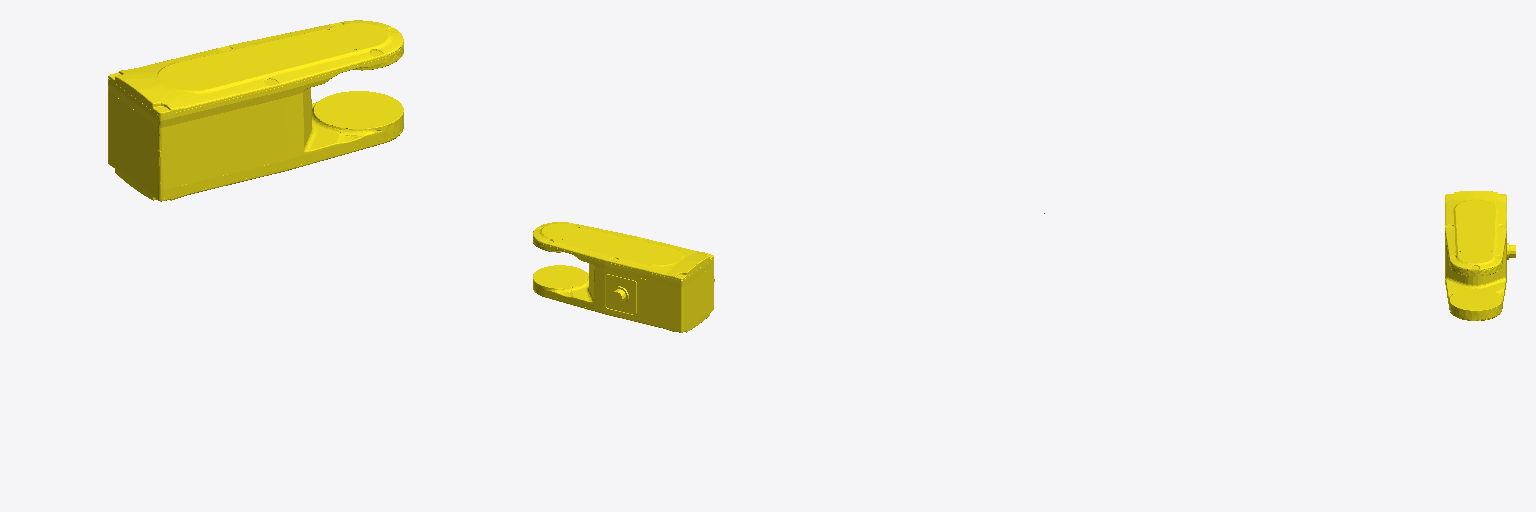
robot.urdf — fanuc_ir_mate_200id_v2:
<?xml version="1.0" encoding="utf-8"?>
<!-- This URDF was automatically created by SolidWorks to URDF Exporter! Originally created by [author] ([email redacted]) 
     Commit Version: 1.5.1-0-g916b5db  Build Version: 1.5.7152.31018
     For more information, please see http://wiki.ros.org/sw_urdf_exporter -->
<robot
  name="fanuc_ir_mate_200id_v2">
  <link
    name="base">
    <inertial>
      <origin
        xyz="-0.0068268 -0.00032168 0.080423"
        rpy="0 0 0" />
      <mass
        value="4.8533" />
      <inertia
        ixx="0.021987"
        ixy="-0.0001185"
        ixz="0.00014303"
        iyy="0.023829"
        iyz="-3.0601E-05"
        izz="0.022801" />
    </inertial>
    <visual>
      <origin
        xyz="0 0 0"
        rpy="0 0 0" />
      <geometry>
        <mesh
          filename="package://fanuc_ir_mate_200id_v2/meshes/base.STL" />
      </geometry>
      <material
        name="">
        <color
          rgba="0.79216 0.81961 0.93333 1" />
      </material>
    </visual>
    <collision>
      <origin
        xyz="0 0 0"
        rpy="0 0 0" />
      <geometry>
        <mesh
          filename="package://fanuc_ir_mate_200id_v2/meshes/base.STL" />
      </geometry>
    </collision>
  </link>
  <link
    name="Link 1">
    <inertial>
      <origin
        xyz="0.0395165862325428 -0.000714780375481283 0.326948773485214"
        rpy="0 0 0" />
      <mass
        value="14.0629656801171" />
      <inertia
        ixx="0.858841623077969"
        ixy="-0.00061674822246848"
        ixz="-0.132760805503396"
        iyy="0.913159722757177"
        iyz="-0.00110909207111619"
        izz="0.13314943975627" />
    </inertial>
    <visual>
      <origin
        xyz="0 0 0"
        rpy="0 0 0" />
      <geometry>
        <mesh
          filename="package://fanuc_ir_mate_200id_v2/meshes/Link 1.STL" />
      </geometry>
      <material
        name="">
        <color
          rgba="0.792156862745098 0.819607843137255 0.933333333333333 1" />
      </material>
    </visual>
    <collision>
      <origin
        xyz="0 0 0"
        rpy="0 0 0" />
      <geometry>
        <mesh
          filename="package://fanuc_ir_mate_200id_v2/meshes/Link 1.STL" />
      </geometry>
    </collision>
  </link>
  <joint
    name="joint 1"
    type="revolute">
    <origin
      xyz="0 0 0.042741"
      rpy="0 0 0" />
    <parent
      link="base" />
    <child
      link="Link 1" />
    <axis
      xyz="0 0 1" />
    <limit
      lower="-3.14"
      upper="3.14"
      effort="15"
      velocity="6" />
  </joint>
  <link
    name="Link 2">
    <inertial>
      <origin
        xyz="-0.007993 -0.0018012 0.12126"
        rpy="0 0 0" />
      <mass
        value="6.3616" />
      <inertia
        ixx="0.10665"
        ixy="8.068E-05"
        ixz="0.0014511"
        iyy="0.087068"
        iyz="-0.00055746"
        izz="0.031702" />
    </inertial>
    <visual>
      <origin
        xyz="0 0 0"
        rpy="0 0 0" />
      <geometry>
        <mesh
          filename="package://fanuc_ir_mate_200id_v2/meshes/Link 2.STL" />
      </geometry>
      <material
        name="">
        <color
          rgba="0.79216 0.81961 0.93333 1" />
      </material>
    </visual>
    <collision>
      <origin
        xyz="0 0 0"
        rpy="0 0 0" />
      <geometry>
        <mesh
          filename="package://fanuc_ir_mate_200id_v2/meshes/Link 2.STL" />
      </geometry>
    </collision>
  </link>
  <joint
    name="Joint 2"
    type="revolute">
    <origin
      xyz="0.05 0 0.28726"
      rpy="0 0 0" />
    <parent
      link="Link 1" />
    <child
      link="Link 2" />
    <axis
      xyz="0 1 0" />
    <limit
      lower="-1.77"
      upper="2.5"
      effort="20"
      velocity="8" />
  </joint>
  <link
    name="Link 3">
    <inertial>
      <origin
        xyz="0.0082366584893896 0.000680320793238054 0.017645839129693"
        rpy="0 0 0" />
      <mass
        value="2.39426298307034" />
      <inertia
        ixx="0.00633470589018608"
        ixy="-4.95237019397927E-05"
        ixz="-0.000761330144977924"
        iyy="0.00732797870019393"
        iyz="-6.64889222936894E-05"
        izz="0.00726038168046429" />
    </inertial>
    <visual>
      <origin
        xyz="0 0 0"
        rpy="0 0 0" />
      <geometry>
        <mesh
          filename="package://fanuc_ir_mate_200id_v2/meshes/Link 3.STL" />
      </geometry>
      <material
        name="">
        <color
          rgba="0.792156862745098 0.819607843137255 0.933333333333333 1" />
      </material>
    </visual>
    <collision>
      <origin
        xyz="0 0 0"
        rpy="0 0 0" />
      <geometry>
        <mesh
          filename="package://fanuc_ir_mate_200id_v2/meshes/Link 3.STL" />
      </geometry>
    </collision>
  </link>
  <joint
    name="Joint 3"
    type="revolute">
    <origin
      xyz="0 0 0.33"
      rpy="0 0 0" />
    <parent
      link="Link 2" />
    <child
      link="Link 3" />
    <axis
      xyz="0 1 0" />
    <limit
      lower="-3.5296"
      upper="1.27"
      effort="15"
      velocity="9.7" />
  </joint>
  <link
    name="Link 4">
    <inertial>
      <origin
        xyz="0.1089 0.0089142 0.05615"
        rpy="0 0 0" />
      <mass
        value="0.00082621" />
      <inertia
        ixx="2.6567E-08"
        ixy="-1.0653E-19"
        ixz="-2.9299E-25"
        iyy="2.7105E-08"
        iyz="2.3689E-24"
        izz="4.1244E-08" />
    </inertial>
    <visual>
      <origin
        xyz="0 0 0"
        rpy="0 0 0" />
      <geometry>
        <mesh
          filename="package://fanuc_ir_mate_200id_v2/meshes/Link 4.STL" />
      </geometry>
      <material
        name="">
        <color
          rgba="1 0.93333 0.13333 1" />
      </material>
    </visual>
    <collision>
      <origin
        xyz="0 0 0"
        rpy="0 0 0" />
      <geometry>
        <mesh
          filename="package://fanuc_ir_mate_200id_v2/meshes/Link 4.STL" />
      </geometry>
    </collision>
  </link>
  <joint
    name="Joint 4"
    type="revolute">
    <origin
      xyz="0.0880013108830273 0 0.0350266000000001"
      rpy="0 0 0" />
    <parent
      link="Link 3" />
    <child
      link="Link 4" />
    <axis
      xyz="1 0 0" />
    <limit
      lower="-3.3"
      upper="3.3"
      effort="8.86"
      velocity="9.77" />
  </joint>
  <link
    name="Link 5">
    <inertial>
      <origin
        xyz="0.017472 0.0029843 -6.4134E-05"
        rpy="0 0 0" />
      <mass
        value="0.44624" />
      <inertia
        ixx="0.00029866"
        ixy="2.7659E-05"
        ixz="4.1796E-08"
        iyy="0.0005998"
        iyz="1.4464E-09"
        izz="0.0005763" />
    </inertial>
    <visual>
      <origin
        xyz="0 0 0"
        rpy="0 0 0" />
      <geometry>
        <mesh
          filename="package://fanuc_ir_mate_200id_v2/meshes/Link 5.STL" />
      </geometry>
      <material
        name="">
        <color
          rgba="0.79216 0.81961 0.93333 1" />
      </material>
    </visual>
    <collision>
      <origin
        xyz="0 0 0"
        rpy="0 0 0" />
      <geometry>
        <mesh
          filename="package://fanuc_ir_mate_200id_v2/meshes/Link 5.STL" />
      </geometry>
    </collision>
  </link>
  <joint
    name="Joint 5"
    type="revolute">
    <origin
      xyz="0.245398689130573 0 0"
      rpy="0 0 0" />
    <parent
      link="Link 4" />
    <child
      link="Link 5" />
    <axis
      xyz="0 1 0" />
    <limit
      lower="-2.1817"
      upper="2.1817"
      effort="8.86"
      velocity="9.77" />
  </joint>
  <link
    name="link 6">
    <inertial>
      <origin
        xyz="4.9958E-09 -2.493E-08 0.0024231"
        rpy="0 0 0" />
      <mass
        value="0.0067922" />
      <inertia
        ixx="3.6282E-06"
        ixy="3.7711E-10"
        ixz="-5.7457E-14"
        iyy="3.6291E-06"
        iyz="2.4848E-13"
        izz="7.177E-06" />
    </inertial>
    <visual>
      <origin
        xyz="0 0 0"
        rpy="0 0 0" />
      <geometry>
        <mesh
          filename="package://fanuc_ir_mate_200id_v2/meshes/link 6.STL" />
      </geometry>
      <material
        name="">
        <color
          rgba="0.79216 0.81961 0.93333 1" />
      </material>
    </visual>
    <collision>
      <origin
        xyz="0 0 0"
        rpy="0 0 0" />
      <geometry>
        <mesh
          filename="package://fanuc_ir_mate_200id_v2/meshes/link 6.STL" />
      </geometry>
    </collision>
  </link>
  <joint
    name="Joint 6"
    type="revolute">
    <origin
      xyz="0.0755 0 0"
      rpy="3.1416 1.5708 0" />
    <parent
      link="Link 5" />
    <child
      link="link 6" />
    <axis
      xyz="0 0 -1" />
    <limit
      lower="-6.28"
      upper="6.28"
      effort="4.9"
      velocity="15.7" />
    <calibration falling="0" rising="0"/>
    <dynamics damping="0" friction="0"/>
  </joint>
  <link name="tool0"/>
    <joint name="joint_6-tool0" type="fixed">
    <parent link="link 6"/>
    <child link="tool0"/>
    <origin xyz="0 0 0" rpy="0 0 0"/>
  </joint>


</robot>

--- What the picture shows (computed from the rendered views, not written in the file) ---
Views: 3 orthographic renders of the robot side by side, from view 1: azimuth 30°, elevation 25°; view 2: azimuth 150°, elevation 25°; view 3: azimuth 270°, elevation 25°.
Model fanuc_ir_mate_200id_v2 with 8 links and 7 joints (6 revolute, 1 fixed), rooted at base, posed every joint at zero.
Visible links, largest first — view 1: Link 4; view 2: Link 4; view 3: Link 4.
Boxes of the visible links, x1,y1,x2,y2 form: Link 4: (108,20,403,201); Link 4: (533,222,714,332); Link 4: (1445,191,1515,320).
Size in the robot's own frame: 426 by 759 by 106 metres.
7 mesh visuals loaded from 7 distinct referenced files (7 binary STL).